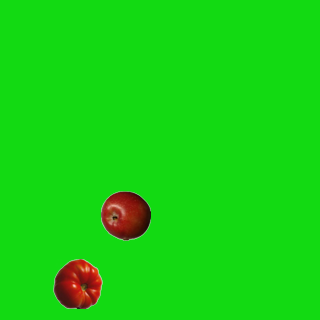Apple Braeburn: (100, 190, 150, 240)
Tomato 3: (52, 258, 102, 308)
